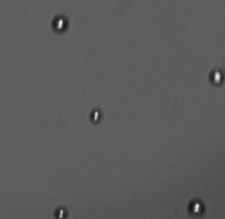Living Cell: (49, 13, 69, 34), (86, 105, 104, 124), (208, 66, 223, 87), (187, 198, 205, 215)
